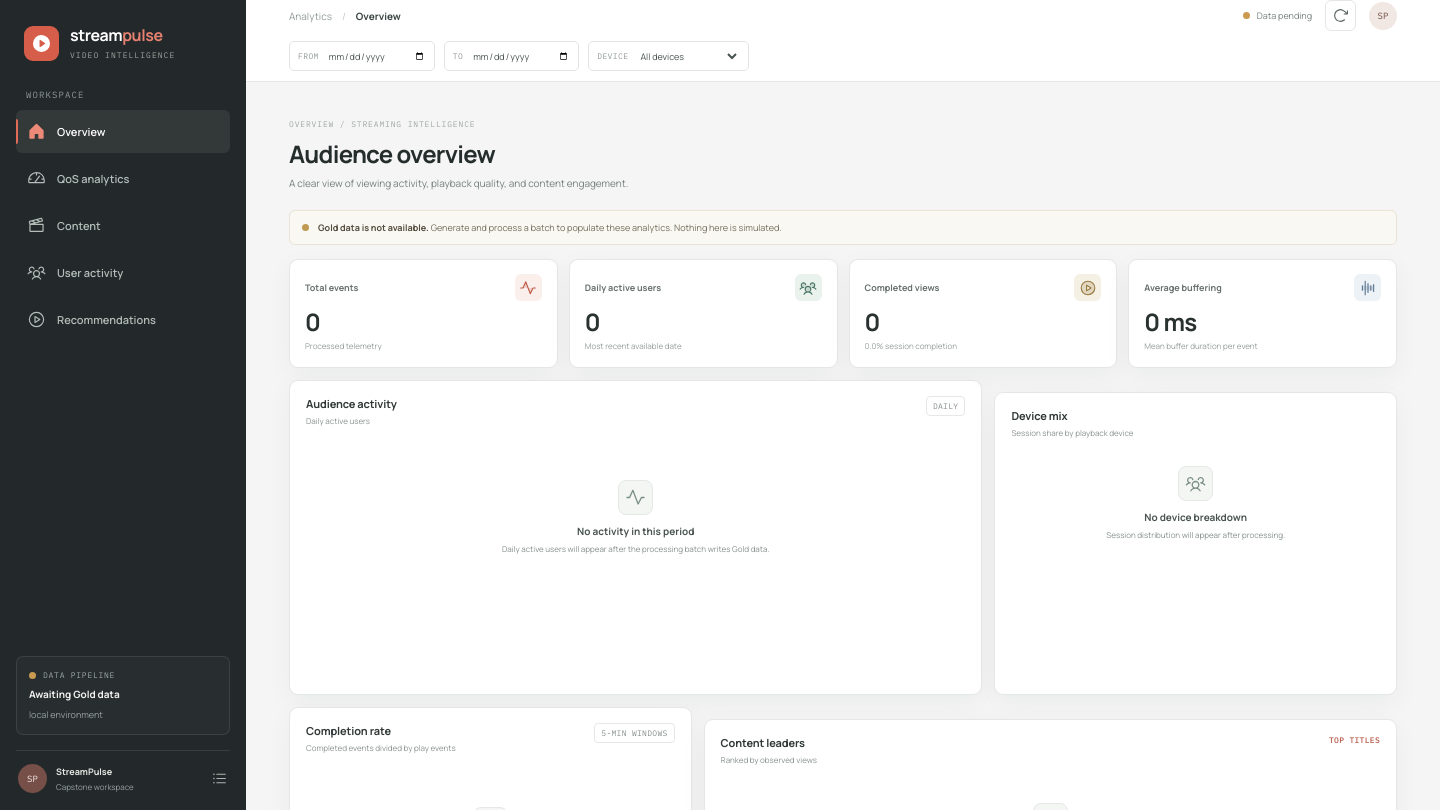
Test case: StreamPulse analytics dashboard › labels popularity fallback and displays actual recommendation fields
The image size is (1440, 810).
Click the button "Recommendations". click: {"x": 123, "y": 320}
box: left=16, top=298, right=230, bottom=341
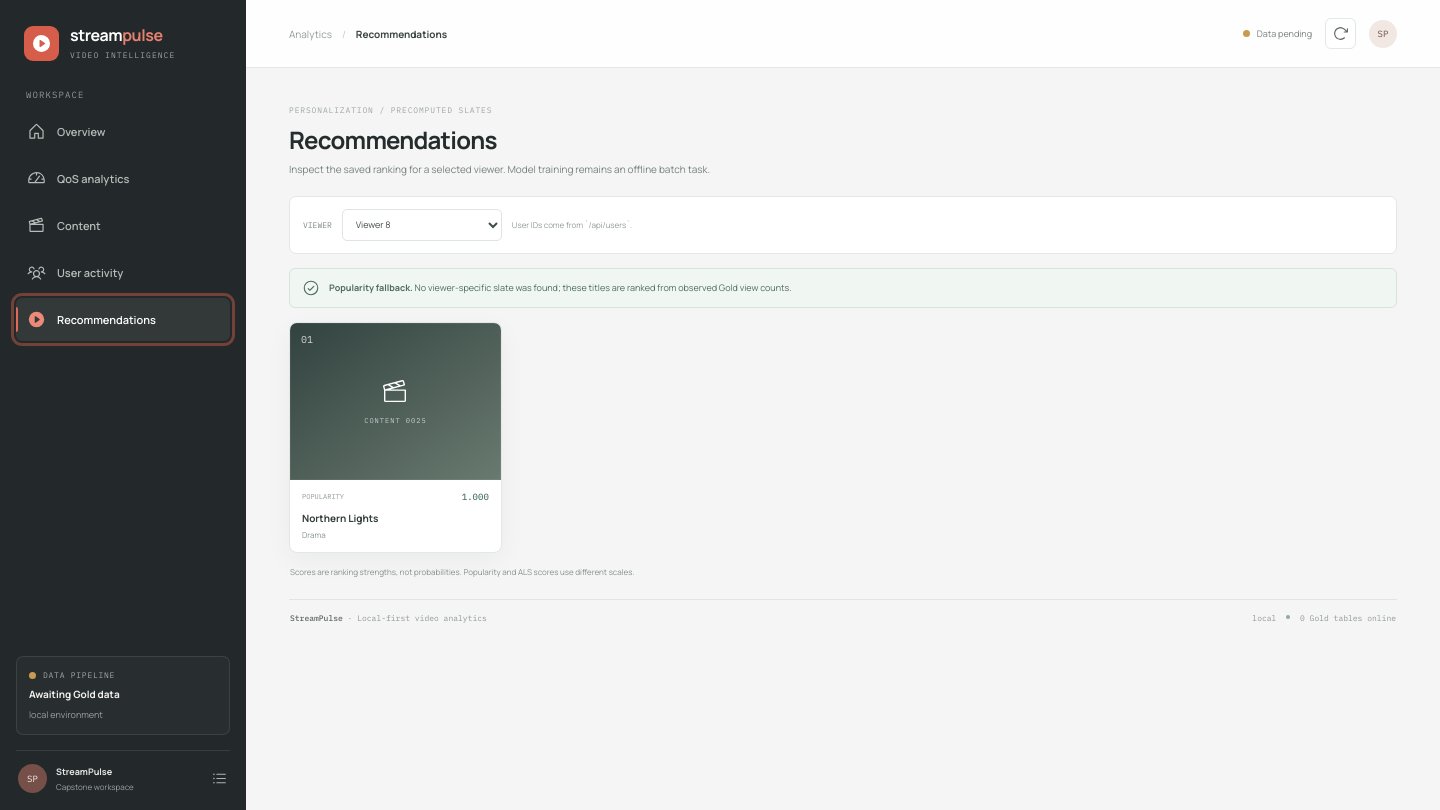
Check: the text "Popularity fallback." is shown, box left=329, top=281, right=413, bottom=294
Check: the heading "Northern Lights" is shown, box left=302, top=511, right=378, bottom=525
Check: the text "POPULARITY" is shown, box left=302, top=492, right=344, bottom=501
